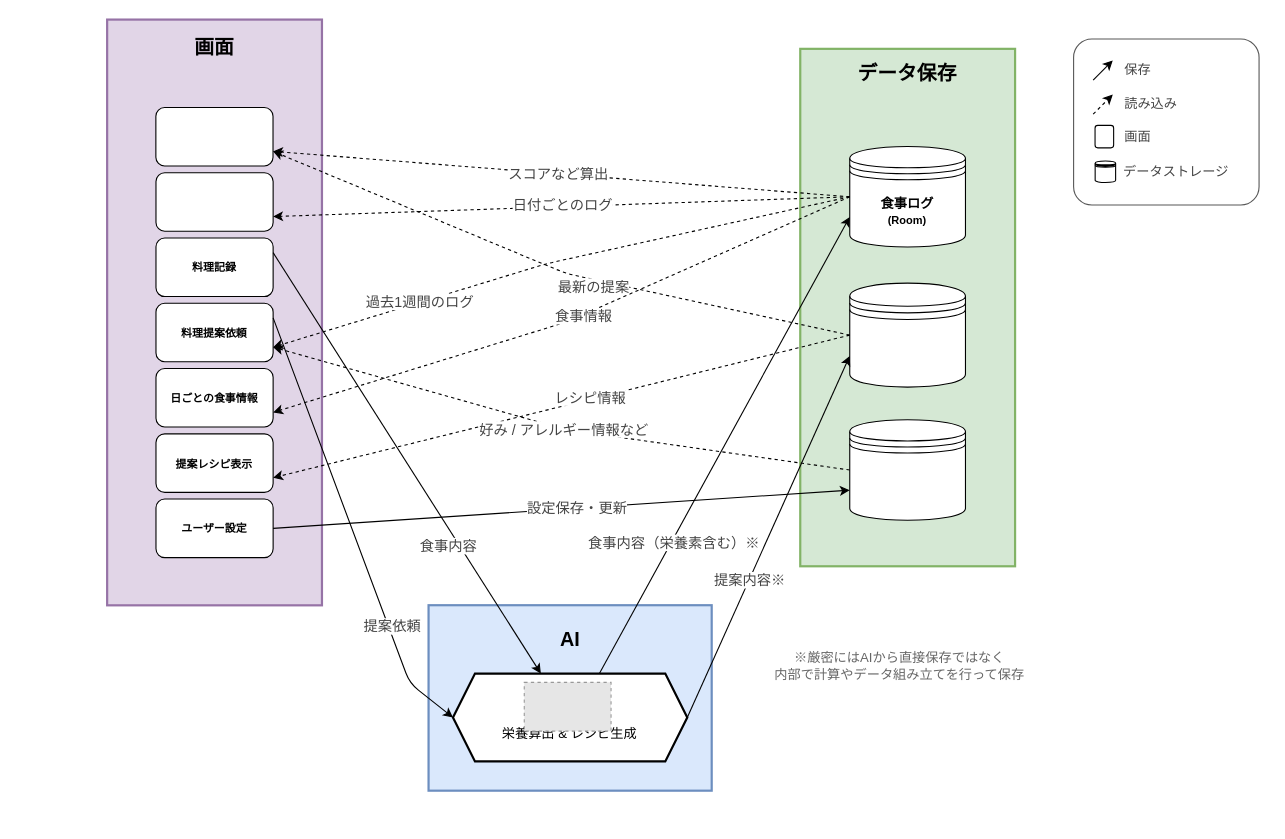
Some shapes in this 1285 by 839 pixel diagram are drawn without their labels. Grey dashed boxes stand in for pictures. Each missing label, with the centre of its shape:
"カレンダー (ホーム１)" belongs at point 214,201.
"ダッシュボード (ホーム１)" belongs at point 214,136.
"ユーザー設定 (内部 / DataStore)" belongs at point 907,469.
"提案ログ (Room)" belongs at point 907,334.
